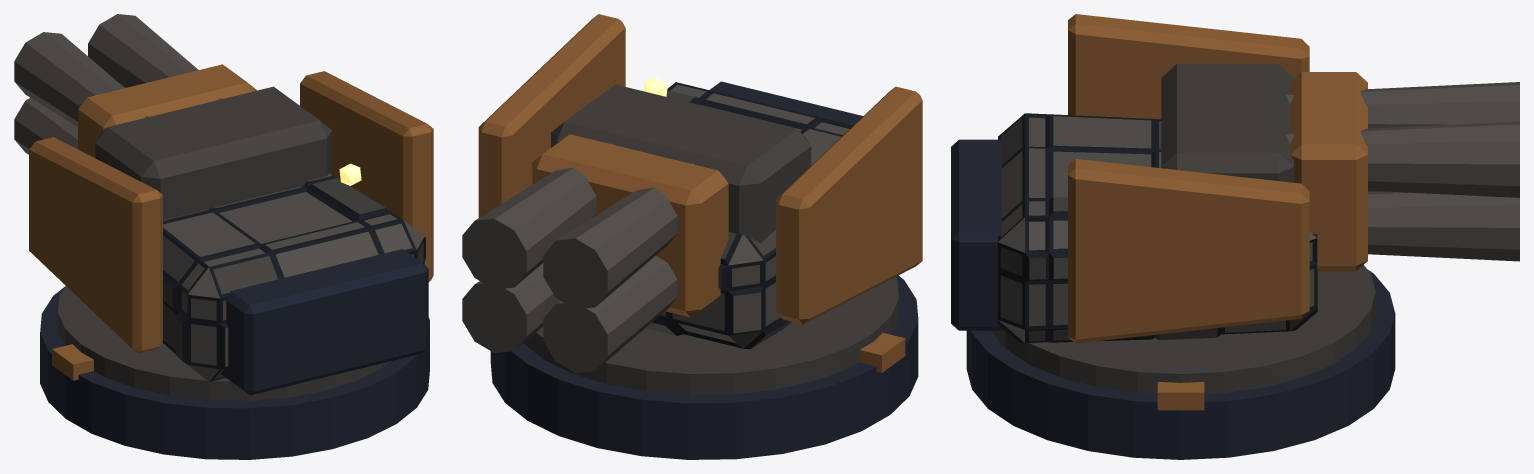
The model's file is turret_scatter_guns.glb.
3 renders of one model, left to right at view 1: azimuth 30°, elevation 25°; view 2: azimuth 150°, elevation 25°; view 3: azimuth 270°, elevation 25°, orthographic. The views are drawn at different scales.
Visible parts, largest first — view 1: Yaw_mesh, Pitch_mesh, Base_mesh; view 2: Pitch_mesh, Yaw_mesh, Base_mesh; view 3: Yaw_mesh, Pitch_mesh, Base_mesh.
Boxes of the visible parts, bbox=[...] form: Yaw_mesh: bbox=[29, 71, 433, 395]; Pitch_mesh: bbox=[14, 14, 331, 219]; Base_mesh: bbox=[40, 286, 429, 459]; Pitch_mesh: bbox=[462, 84, 811, 372]; Yaw_mesh: bbox=[478, 14, 922, 349]; Base_mesh: bbox=[490, 275, 918, 459]; Yaw_mesh: bbox=[951, 14, 1317, 343]; Pitch_mesh: bbox=[1161, 63, 1519, 271]; Base_mesh: bbox=[966, 265, 1395, 459].
Bounding box in the file's own units: 1.12 × 0.7876 × 1.46.
